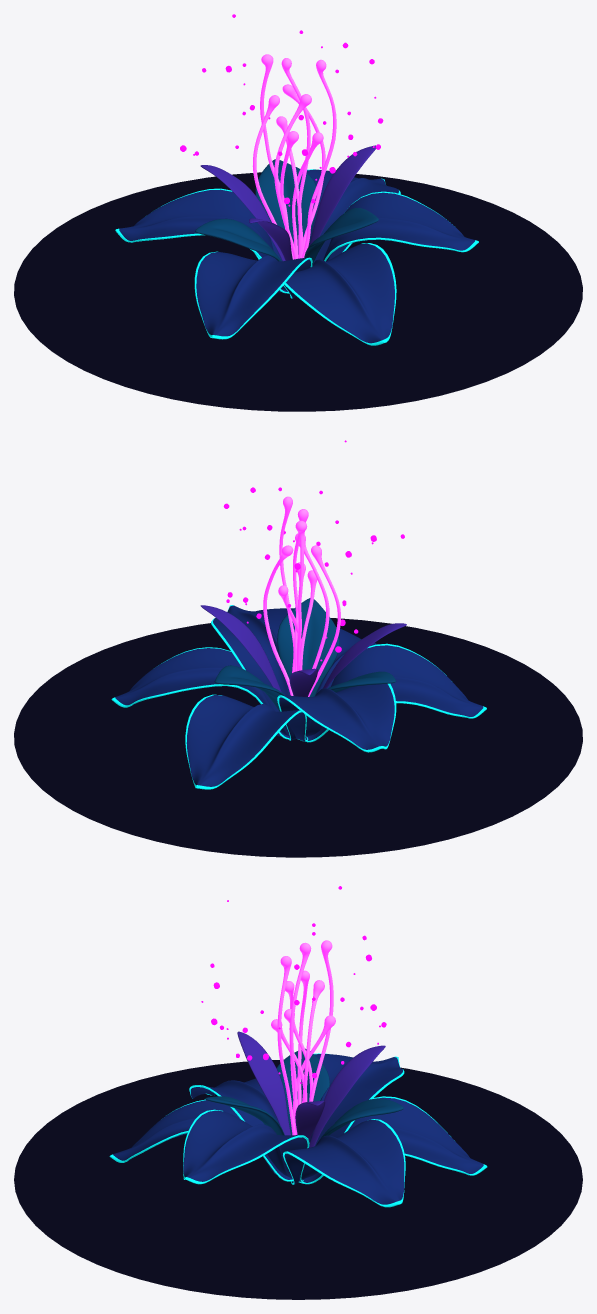
The model's file is glowing_flower.glb.
3 renders of one model, top to bottom at view 1: azimuth 30°, elevation 25°; view 2: azimuth 150°, elevation 25°; view 3: azimuth 270°, elevation 25°, orthographic.
Parts seen in each view (by area): view 1: Circle, Plane.005, Plane.006, Plane.004, Plane.007, Vert.003, Plane.001, Vert.002, Plane.003, Vert.001, Plane.010, Plane.009 (+4 smaller); view 2: Circle, Plane, Plane.007, Plane.006, Plane.003, Plane.004, Plane.008, Vert.002, Vert.001, Vert.003, Plane.010, Plane.001 (+5 smaller); view 3: Circle, Plane.003, Plane.004, Plane, Plane.007, Plane.005, Plane.011, Vert.002, Plane.002, Plane.006, Vert.001, Vert.003 (+5 smaller).
Boxes of the visible parts, box(x1,y1,x2,y2) form: Circle: box(14, 172, 582, 411); Plane.005: box(283, 243, 396, 345); Plane.006: box(194, 251, 312, 339); Plane.004: box(323, 191, 478, 261); Plane.007: box(115, 188, 288, 293); Vert.003: box(274, 59, 336, 259); Plane.001: box(255, 159, 317, 254); Vert.002: box(260, 54, 325, 258); Plane.003: box(306, 169, 400, 263); Vert.001: box(252, 58, 310, 259); Plane.010: box(309, 145, 375, 245); Plane.009: box(195, 218, 281, 261); Circle: box(14, 618, 582, 857); Plane: box(185, 694, 308, 789); Plane.007: box(277, 683, 396, 752); Plane.006: box(297, 643, 486, 742); Plane.003: box(111, 647, 290, 739); Plane.004: box(211, 605, 293, 711); Plane.008: box(277, 598, 339, 696); Vert.002: box(263, 520, 307, 695); Vert.001: box(293, 509, 340, 696); Vert.003: box(279, 496, 329, 672); Plane.010: box(200, 605, 281, 691); Plane.001: box(214, 665, 284, 711); Circle: box(14, 1059, 582, 1299); Plane.003: box(283, 1119, 405, 1207); Plane.004: box(183, 1109, 309, 1184); Plane: box(298, 1096, 487, 1184); Plane.007: box(309, 1053, 404, 1145); Plane.005: box(109, 1099, 293, 1181); Plane.011: box(237, 1031, 290, 1135); Vert.002: box(293, 940, 335, 1126); Plane.002: box(309, 1045, 385, 1147); Plane.006: box(189, 1078, 279, 1126); Vert.001: box(284, 942, 313, 1134); Vert.003: box(271, 956, 307, 1135).
Size of the model in its own units: 10.16 by 5.4 by 10.16.
